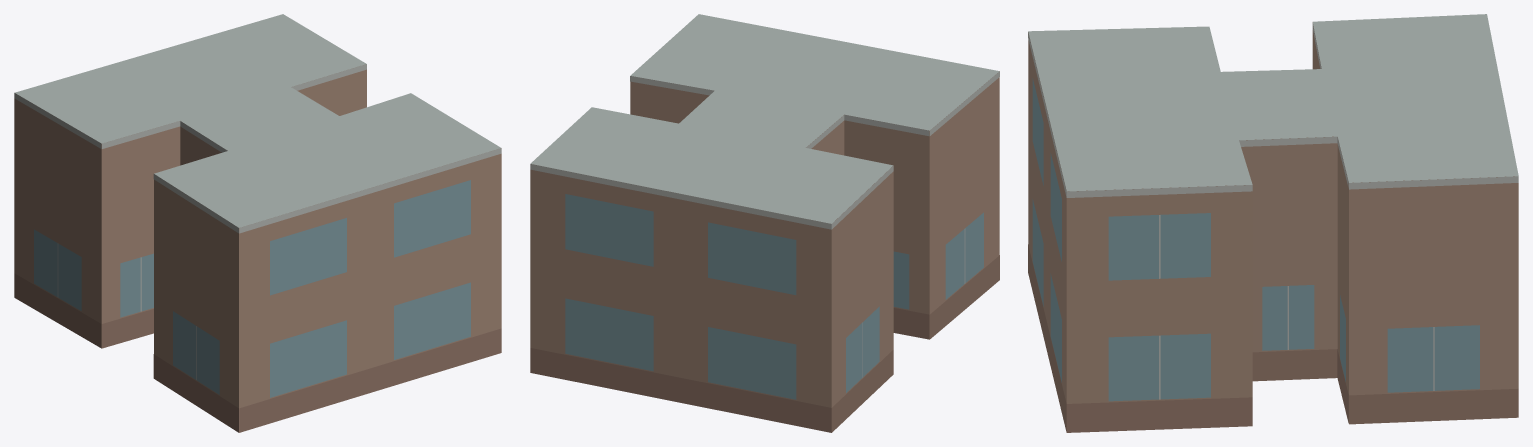
Rendered from survey-upis-32844914.glb.
3 views of the same model, side by side, from view 1: azimuth 30°, elevation 25°; view 2: azimuth 150°, elevation 25°; view 3: azimuth 270°, elevation 25° (orthographic). The views are drawn at different scales.
Parts seen in each view (by area): view 1: survey-upis-32844914.tmp; view 2: survey-upis-32844914.tmp; view 3: survey-upis-32844914.tmp.
Boxes of the visible parts, x1,y1,x2,y2 form: survey-upis-32844914.tmp: [14, 14, 501, 432]; survey-upis-32844914.tmp: [530, 14, 999, 432]; survey-upis-32844914.tmp: [1028, 14, 1518, 432].
Bounding box in the file's own units: 14.01 × 8.88 × 16.37.
